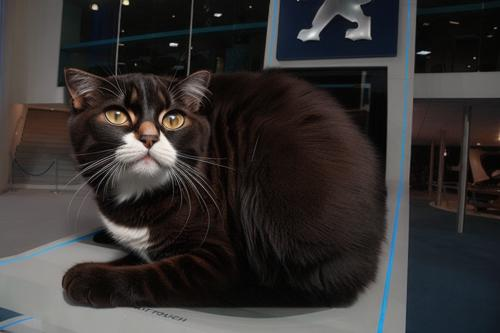cat: (62, 66, 387, 307)
person: (78, 114, 128, 139)
person/hand: (78, 121, 86, 129)
person/head: (107, 115, 122, 129)
